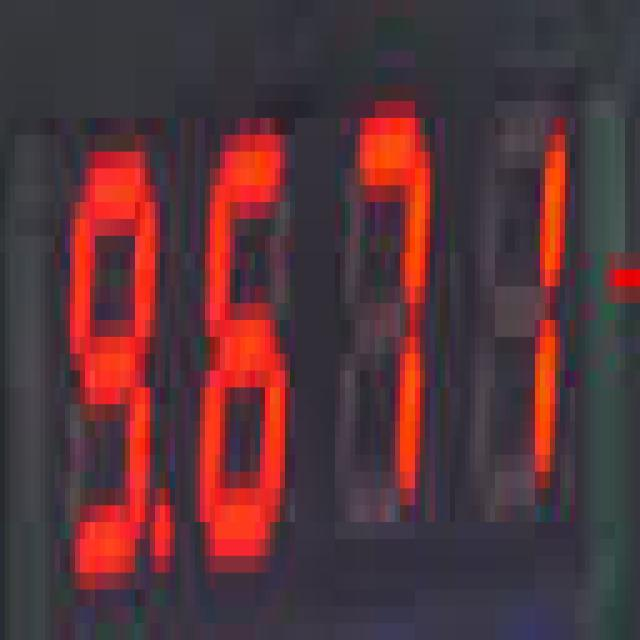.: (150, 487, 176, 576)
1: (478, 61, 581, 548)
6: (194, 95, 296, 571)
7: (326, 65, 451, 537)
9: (48, 95, 184, 598)
